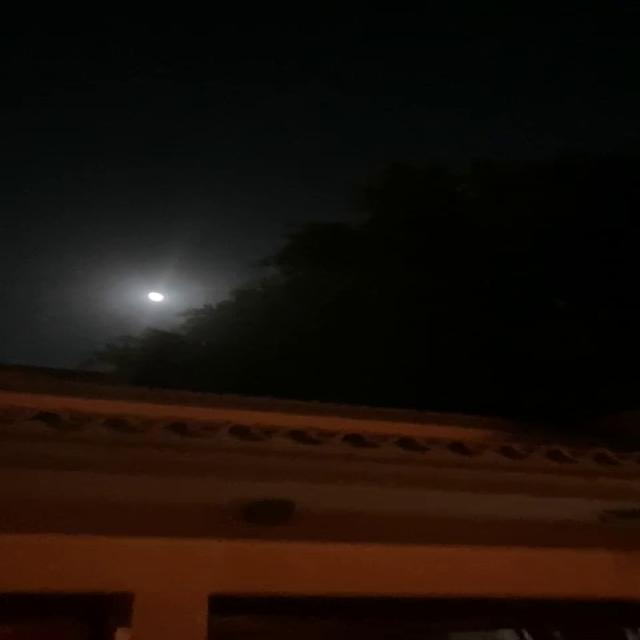moon: (140, 281, 165, 315)
